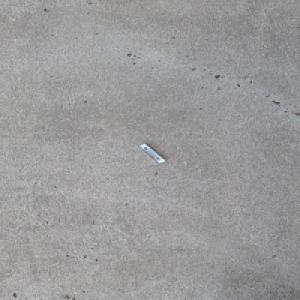ClampPart: (135, 142, 165, 164)
